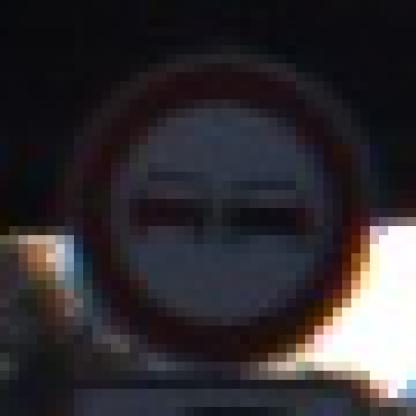No Overtaking: (56, 46, 371, 372)
